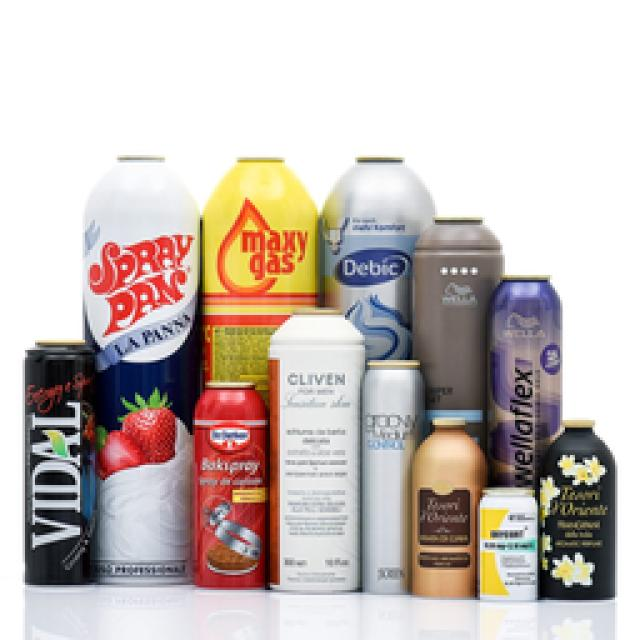B3: (82, 156, 196, 590), (199, 155, 317, 406), (268, 312, 365, 592), (322, 159, 432, 364), (411, 217, 500, 458), (24, 346, 97, 580), (486, 274, 560, 490), (191, 382, 268, 588), (360, 358, 424, 594), (540, 422, 616, 602), (409, 418, 485, 598), (478, 488, 540, 602)
